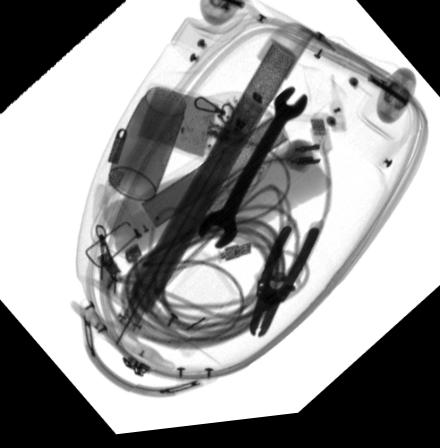Pliers: (247, 230, 320, 344)
Powerbank: (137, 89, 240, 169)
Wrench: (198, 94, 307, 255)
